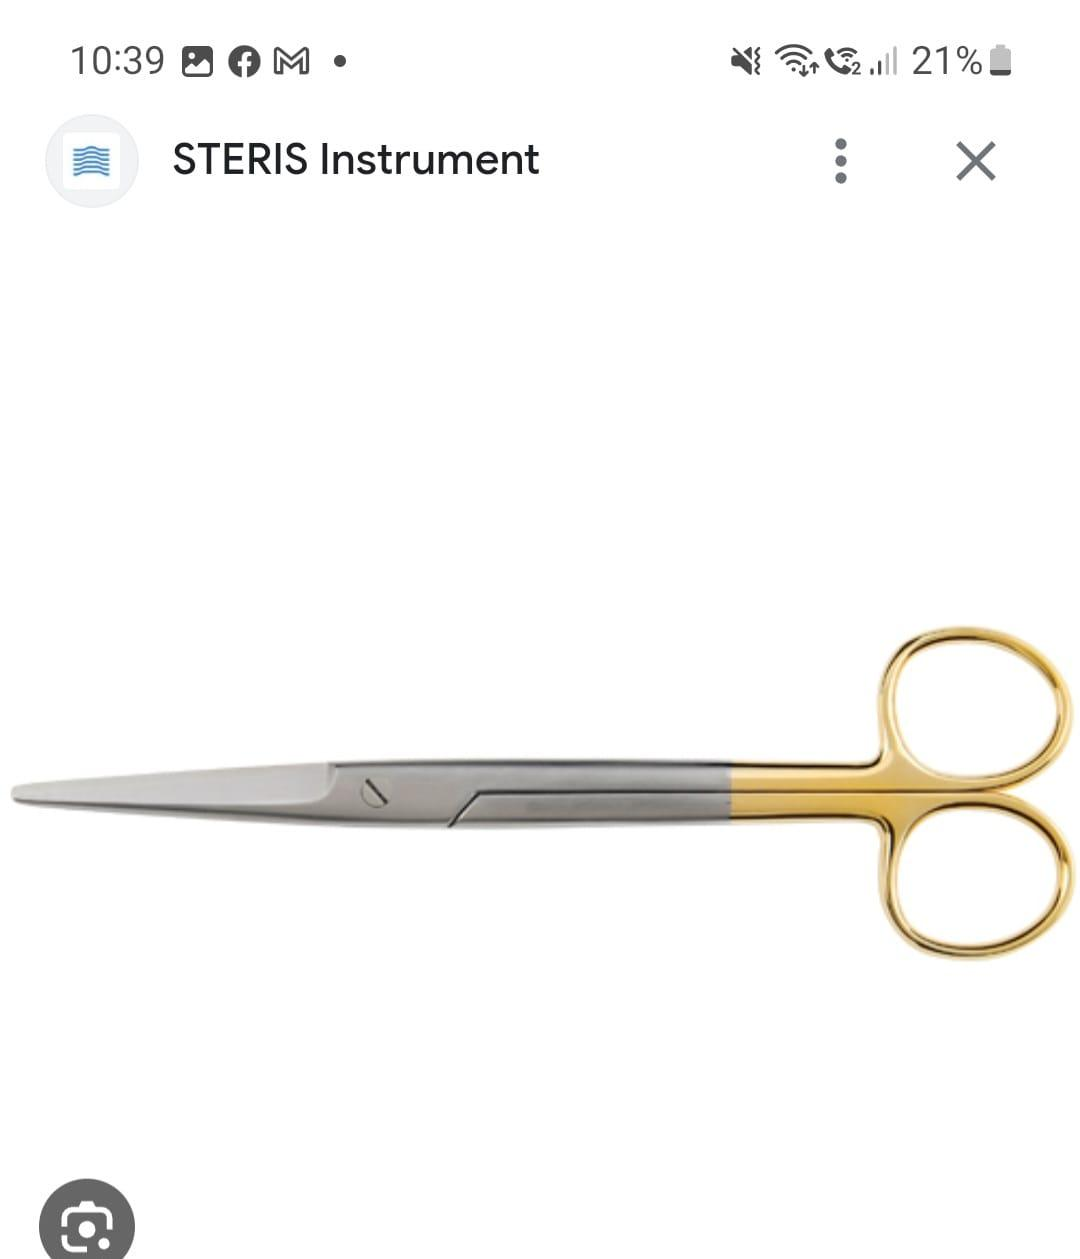Straight Mayo: (10, 608, 1074, 956)
